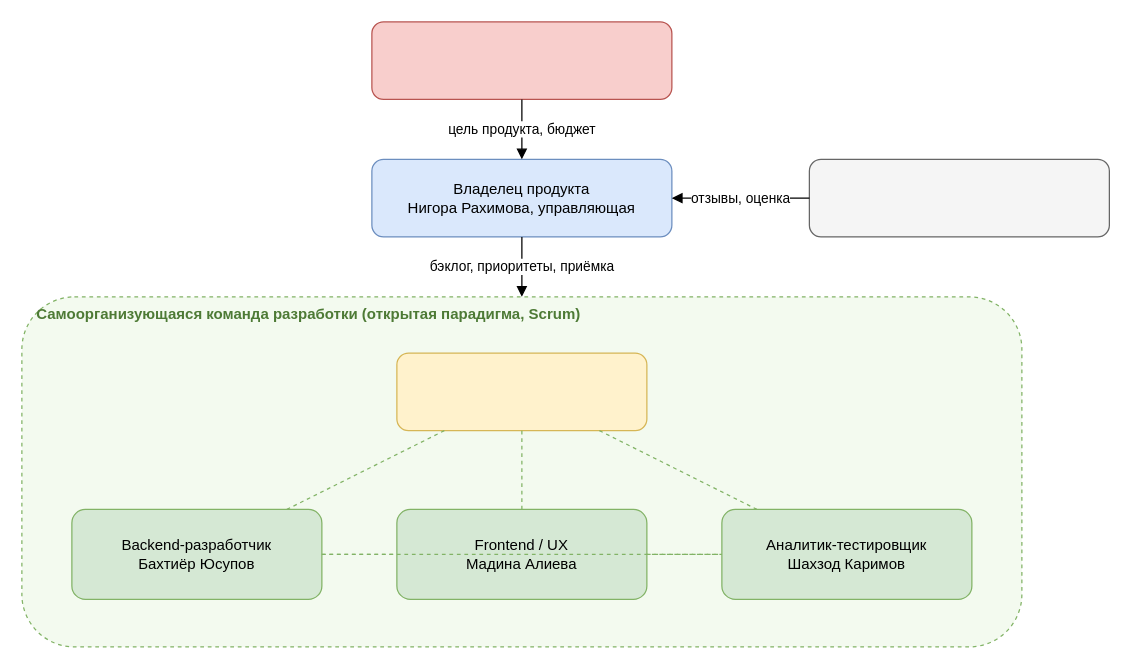
Some shapes in this 1131 by 669 pixel diagram are drawn without their labels. Each missing label, with the centre of its shape:
Scrum-мастер Асилбек Тожикулов, фасилитатор: pixel 521 391
Владелец сети (спонсор) заказчик, бюджет, приёмка: pixel 521 60
Пользователи администраторы и мастера салонов: pixel 958 197
